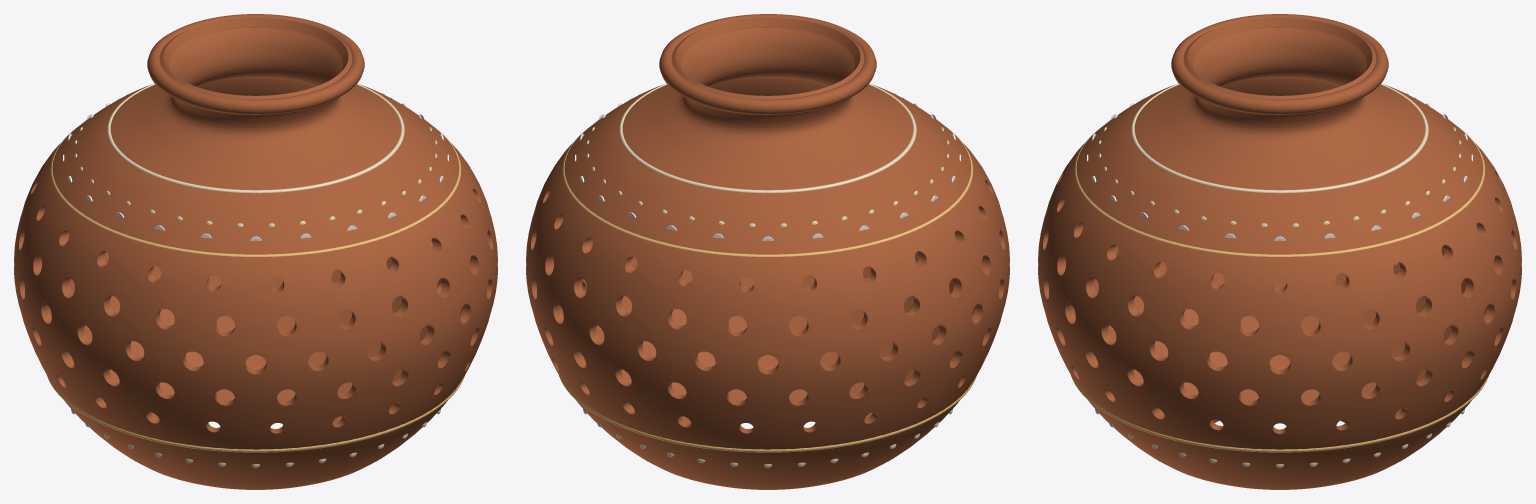
File: divi-garbo.glb
3 renders of one model, left to right at view 1: azimuth 30°, elevation 25°; view 2: azimuth 150°, elevation 25°; view 3: azimuth 270°, elevation 25°, orthographic.
Parts seen in each view (by area): view 1: Garbo, Torus.003, Torus.002, Torus.001, Torus, Mirror work; view 2: Garbo, Torus.003, Torus.002, Torus.001, Torus, Mirror work; view 3: Garbo, Torus.003, Torus.002, Torus.001, Torus, Mirror work.
Part boxes in pixels (box(x1,y1,x2,y2)): Garbo: box(14, 17, 497, 489); Torus.003: box(147, 14, 364, 114); Torus.002: box(107, 83, 404, 193); Torus.001: box(51, 126, 460, 257); Torus: box(47, 375, 464, 452); Mirror work: box(63, 97, 448, 240); Garbo: box(526, 17, 1009, 489); Torus.003: box(659, 14, 876, 114); Torus.002: box(619, 83, 916, 193); Torus.001: box(563, 126, 972, 257); Torus: box(559, 375, 976, 452); Mirror work: box(575, 97, 960, 240); Garbo: box(1038, 17, 1521, 489); Torus.003: box(1171, 14, 1388, 114); Torus.002: box(1131, 83, 1428, 193); Torus.001: box(1075, 126, 1484, 256); Torus: box(1071, 375, 1488, 452); Mirror work: box(1087, 97, 1472, 240).
Bounding box in the file's own units: 1.73 × 1.53 × 1.73.
